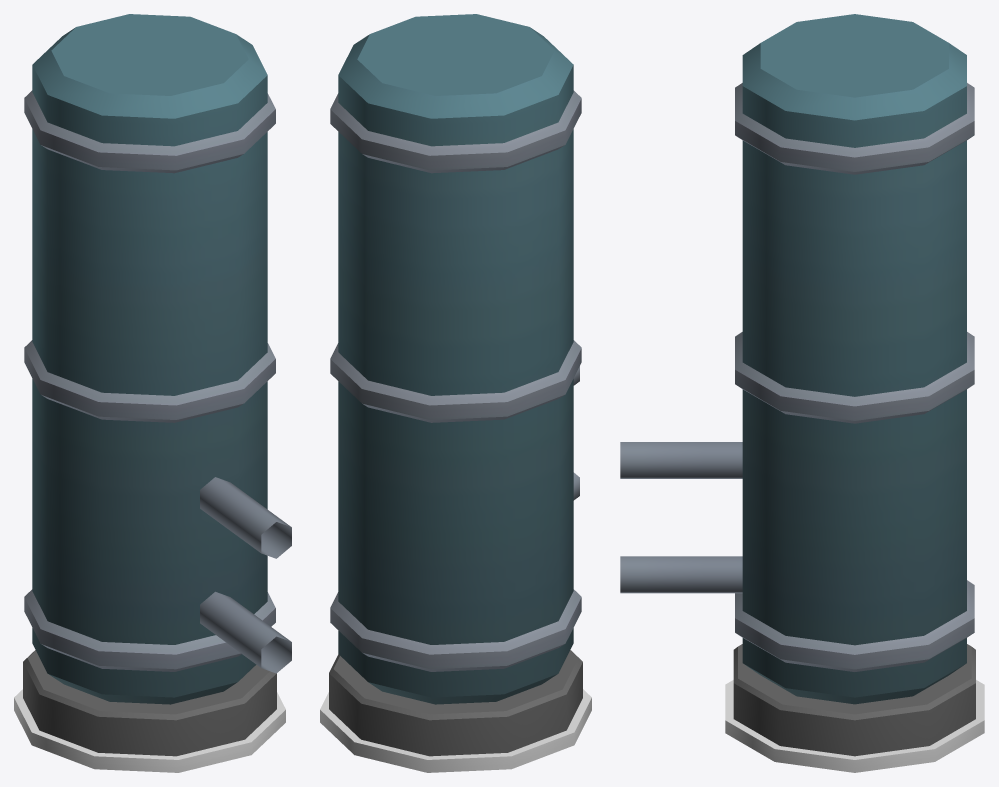
The model's file is GasTank_1_F.fbx.
3 renders of one model, left to right at view 1: azimuth 30°, elevation 25°; view 2: azimuth 150°, elevation 25°; view 3: azimuth 270°, elevation 25°, orthographic.
Parts seen in each view (by area): view 1: GasTank_1_F; view 2: GasTank_1_F; view 3: GasTank_1_F.
Part boxes in pixels (x1,y1,x2,y2): GasTank_1_F: [14, 14, 291, 772]; GasTank_1_F: [320, 14, 591, 772]; GasTank_1_F: [620, 14, 984, 772].
Bounding box in the file's own units: 284 × 758 × 379.
